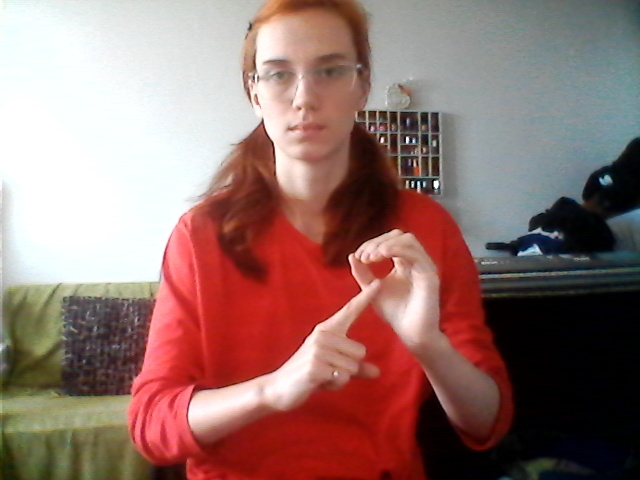q: (281, 223, 459, 410)
